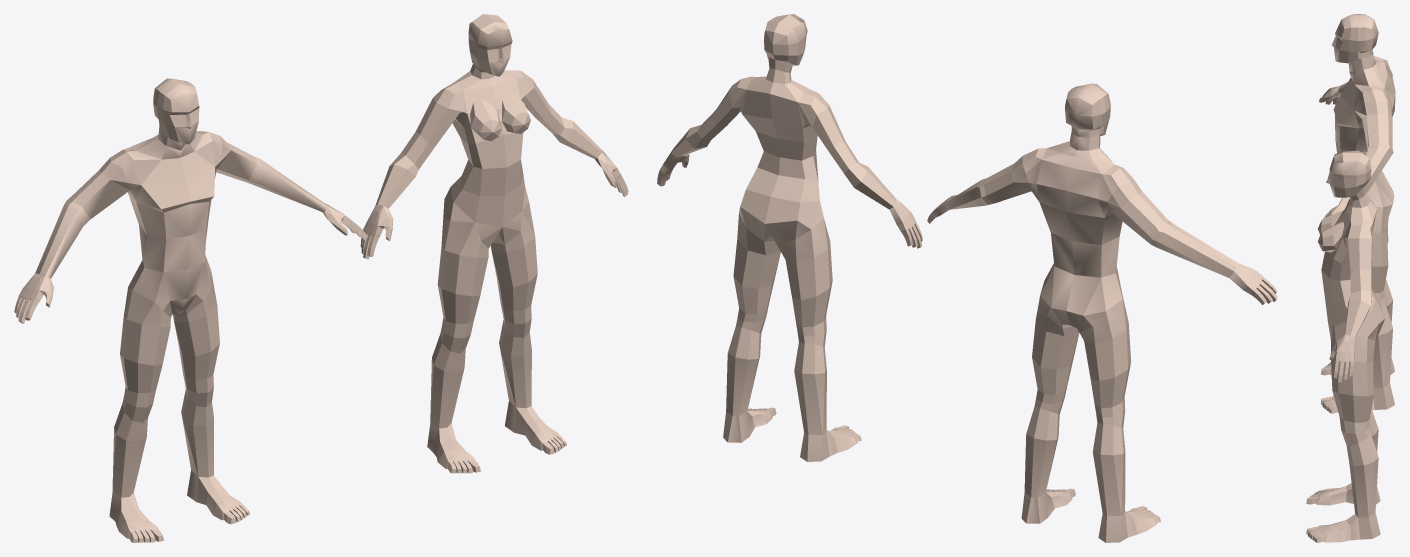
File: uploads_files_5745939_Base+Body.fbx
3 views of the same model, side by side, from view 1: azimuth 30°, elevation 25°; view 2: azimuth 150°, elevation 25°; view 3: azimuth 270°, elevation 25° (orthographic). The views are drawn at different scales.
Visible parts, largest first — view 1: Body.002, Cube.001; view 2: Body.002, Cube.001; view 3: Cube.001, Body.002.
Part boxes in pixels (left/top/right/bottom): Body.002: left=14, top=78, right=367, bottom=542; Cube.001: left=360, top=14, right=628, bottom=473; Body.002: left=927, top=83, right=1277, bottom=542; Cube.001: left=657, top=14, right=922, bottom=461; Cube.001: left=1306, top=150, right=1385, bottom=542; Body.002: left=1319, top=14, right=1395, bottom=413.
Bounding box in the file's own units: 247 × 167 × 36.11.
